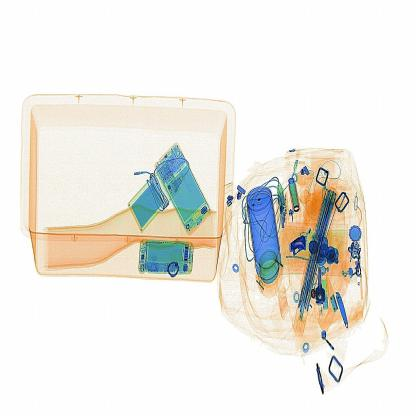knife: (284, 228, 310, 261)
